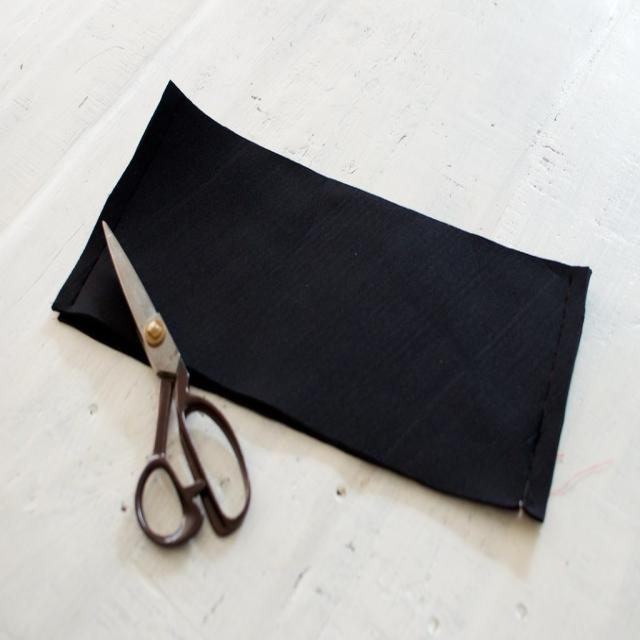scissors: (100, 218, 250, 548)
